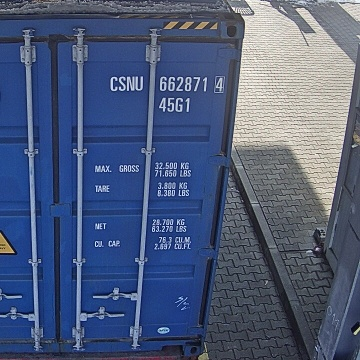serial_id: (110, 76, 222, 91)
